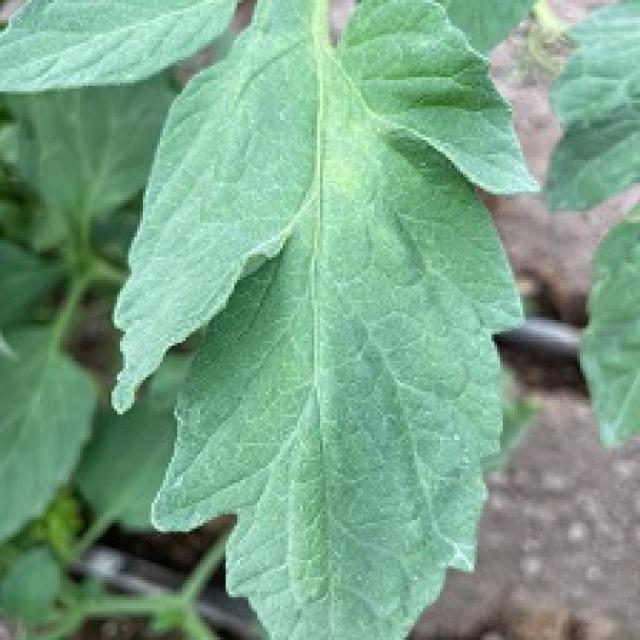Healthy: (104, 0, 540, 640), (0, 0, 234, 94)
